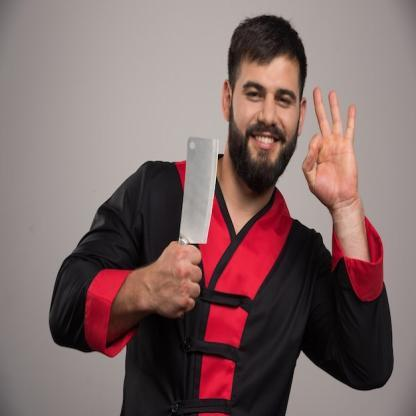ok: (302, 86, 364, 208)
